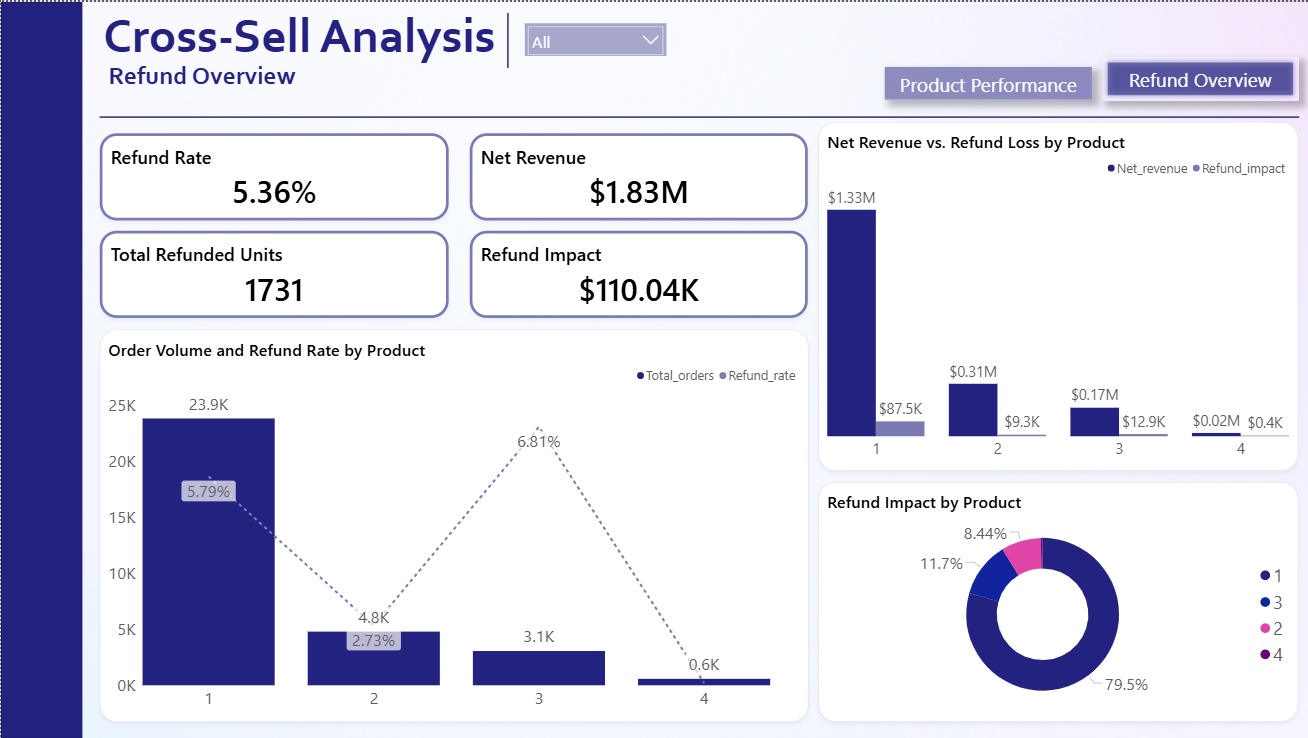

This screenshot's page, from the dashboard's own definition file:
{"tool":"powerbi","page":{"name":"Page 2","canvas":[1920,1080],"ordinal":1},"visuals":[{"type":"shape","box":[0,0,119.2,1080.4],"z":0},{"type":"textbox","box":[144,0,624,112],"z":1000},{"type":"shape","box":[144,144,1760,48],"z":2000},{"type":"textbox","box":[144,80,592,64],"z":3000},{"type":"lineClusteredColumnComboChart","title":"Order Volume and Refund Rate by Product","fields":{"Y":["Measures (2).Total_orders"],"Y2":["Measures (2).Refund_rate"],"Category":["prd_performance_fact (dup).primary_product_id"]},"box":[144,480,1040,576],"z":4000},{"type":"donutChart","title":"Refund Impact by Product","fields":{"Y":["Measures (2).Refund_impact"],"Category":["prd_performance_fact (dup).primary_product_id"]},"box":[1200,704,704,352],"z":5000},{"type":"clusteredColumnChart","title":"Net Revenue vs. Refund Loss by Product","fields":{"Category":["prd_performance_fact (dup).primary_product_id"],"Y":["Measures (2).Net_revenue","Measures (2).Refund_impact"]},"box":[1200,176,704,512],"z":6000},{"type":"card","title":"Refund Rate","fields":{"Values":["Measures (2).Refund_rate"]},"box":[144,192,512,128],"z":7000},{"type":"card","title":"Refund Impact","fields":{"Values":["Measures (2).Refund_impact"]},"box":[688,336,496,128],"z":8000},{"type":"card","title":"Total Refunded Units","fields":{"Values":["Measures (2).Total_refunds"]},"box":[144,336,512,128],"z":9000},{"type":"card","title":"Net Revenue","fields":{"Values":["Measures (2).Net_revenue"]},"box":[688,192,496,128],"z":10000},{"type":"slicer","fields":{"Values":["prd_performance_fact (dup).primary_product_id"]},"box":[768,32,208,48],"z":11000},{"type":"actionButton","box":[1296,96,304,48],"z":12000},{"type":"actionButton","box":[1616,80,288,64],"z":13000},{"type":"shape","box":[688,16,112,80],"z":14000}]}

Visuals, with their boxes in screenshot pixels (x1, y1, x2, y2), scaled from the page's 1920x1080 canvas onto the 1308x738 screenshot:
shape: {"left": 0, "top": 0, "right": 81, "bottom": 737}
textbox: {"left": 98, "top": 0, "right": 523, "bottom": 77}
shape: {"left": 98, "top": 98, "right": 1297, "bottom": 131}
textbox: {"left": 98, "top": 55, "right": 501, "bottom": 98}
"Order Volume and Refund Rate by Product" lineClusteredColumnComboChart: {"left": 98, "top": 328, "right": 807, "bottom": 722}
"Refund Impact by Product" donutChart: {"left": 818, "top": 481, "right": 1297, "bottom": 722}
"Net Revenue vs. Refund Loss by Product" clusteredColumnChart: {"left": 818, "top": 120, "right": 1297, "bottom": 470}
"Refund Rate" card: {"left": 98, "top": 131, "right": 447, "bottom": 219}
"Refund Impact" card: {"left": 469, "top": 230, "right": 807, "bottom": 317}
"Total Refunded Units" card: {"left": 98, "top": 230, "right": 447, "bottom": 317}
"Net Revenue" card: {"left": 469, "top": 131, "right": 807, "bottom": 219}
slicer - prd_performance_fact (dup).primary_product_id: {"left": 523, "top": 22, "right": 665, "bottom": 55}
actionButton: {"left": 883, "top": 66, "right": 1090, "bottom": 98}
actionButton: {"left": 1101, "top": 55, "right": 1297, "bottom": 98}
shape: {"left": 469, "top": 11, "right": 545, "bottom": 66}
